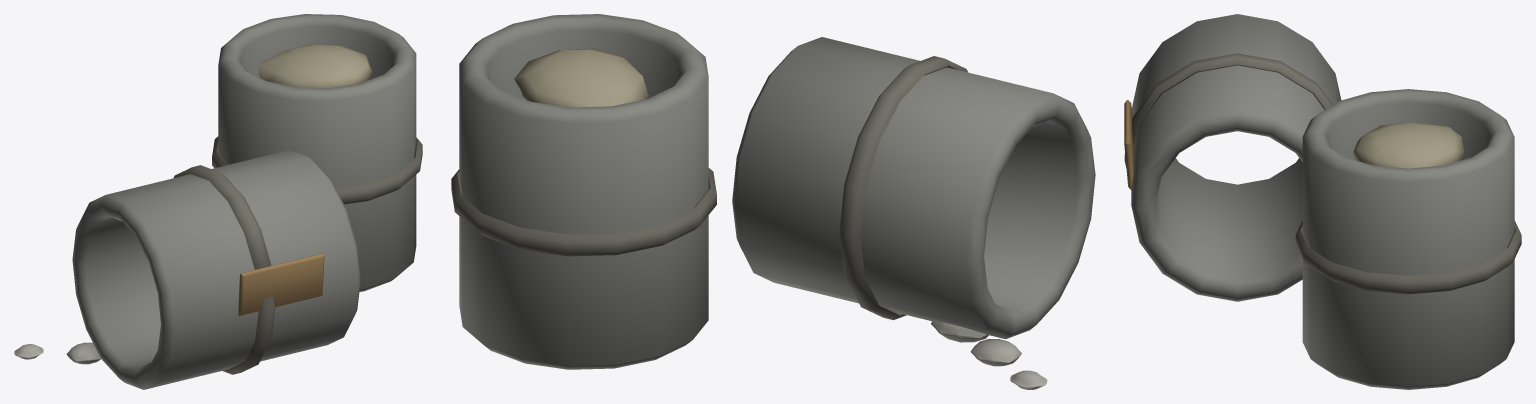
The model's file is culvert_pipe_b.glb.
The picture shows the model from 3 angles, left to right: view 1: azimuth 30°, elevation 25°; view 2: azimuth 150°, elevation 25°; view 3: azimuth 270°, elevation 25°; orthographic projection. The views are drawn at different scales.
Visible parts, largest first — view 1: Surface; view 2: Surface; view 3: Surface.
Boxes of the visible parts, x1,y1,x2,y2 form: Surface: (14,14,422,389); Surface: (451,14,1095,389); Surface: (1124,14,1521,389).
Bounding box in the file's own units: 3.06 × 1.44 × 2.32.
